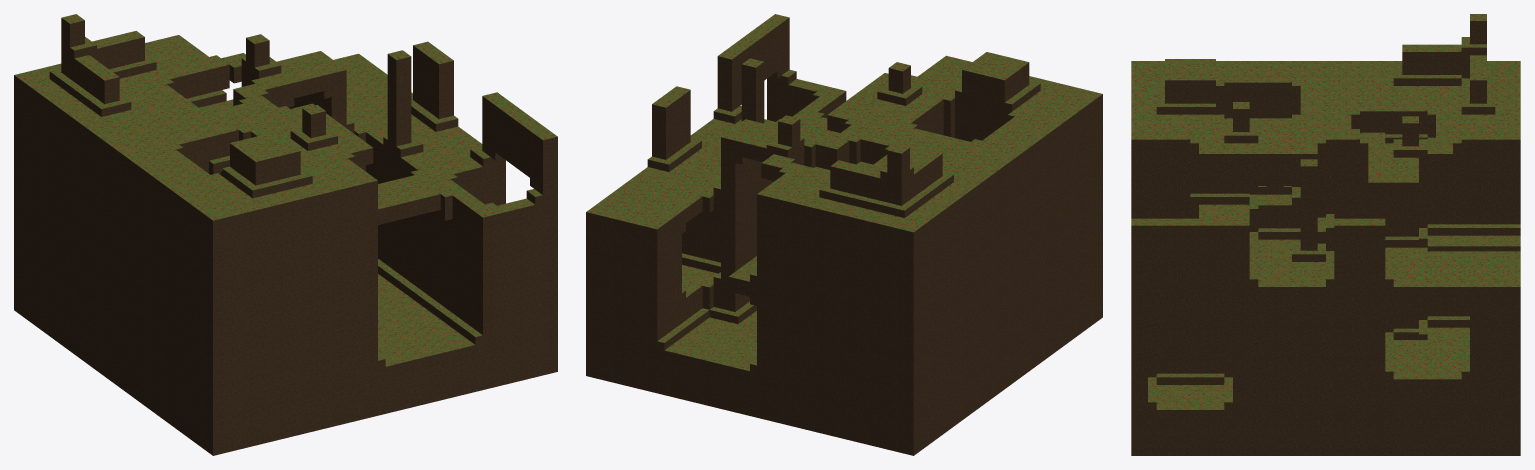
File: sousbois.glb
3 views of the same model, side by side, from view 1: azimuth 30°, elevation 25°; view 2: azimuth 150°, elevation 25°; view 3: azimuth 270°, elevation 25° (orthographic). The views are drawn at different scales.
Parts seen in each view (by area): view 1: edge_inner_b4h2_outdoor_345, edge_inner_b4h2_outdoor_338, slab_b2h2_outdoor_161, slab_b2h2_outdoor_310, slab_b2h2_outdoor_330, slab_b2h2_outdoor_377, slab_b2h2_outdoor_745, slab_b2h2_outdoor_916, slab_b2h2_outdoor_131, slab_b2h2_outdoor_141, slab_b2h2_outdoor_173, slab_b2h2_outdoor_209 (+182 smaller); view 2: edge_inner_b4h2_outdoor_337, edge_inner_b4h2_outdoor_254, edge_inner_b3h3_outdoor_407, edge_inner_b4h2_845, corner_inner_b4h3_outdoor_749, slab_b2h2_outdoor_513, slab_b2h2_outdoor_692, slab_b2h2_outdoor_842, slab_b2h2_outdoor_850, slab_b2h2_outdoor_857, slab_b2h2_outdoor_835, slab_b2h2_outdoor_837 (+157 smaller); view 3: edge_inner_b4h2_outdoor_256, edge_inner_b4h2_outdoor_419, edge_inner_b4h2_outdoor_552, edge_inner_b4h2_553, edge_inner_b4h2_571, edge_inner_b4h2_outdoor_839, ell_inner_b3h2_b_572, slab_b2h2_outdoor_1016, slab_b2h2_outdoor_1023, slab_b2h2_outdoor_576, slab_b2h2_outdoor_586, slab_b2h2_outdoor_967 (+164 smaller).
Boxes of the visible parts, x1,y1,x2,y2 form: edge_inner_b4h2_outdoor_345: [263, 161, 305, 200]; edge_inner_b4h2_outdoor_338: [107, 46, 149, 86]; slab_b2h2_outdoor_161: [220, 282, 250, 320]; slab_b2h2_outdoor_310: [280, 299, 310, 337]; slab_b2h2_outdoor_330: [280, 236, 310, 274]; slab_b2h2_outdoor_377: [310, 323, 340, 361]; slab_b2h2_outdoor_745: [460, 349, 490, 387]; slab_b2h2_outdoor_916: [520, 240, 550, 278]; slab_b2h2_outdoor_131: [220, 407, 250, 445]; slab_b2h2_outdoor_141: [220, 345, 250, 383]; slab_b2h2_outdoor_173: [220, 219, 250, 257]; slab_b2h2_outdoor_209: [250, 369, 280, 407]; edge_inner_b4h2_outdoor_337: [825, 175, 865, 213]; edge_inner_b4h2_outdoor_254: [854, 182, 894, 220]; edge_inner_b3h3_outdoor_407: [935, 105, 969, 138]; edge_inner_b4h2_845: [682, 240, 715, 277]; corner_inner_b4h3_outdoor_749: [694, 292, 727, 326]; slab_b2h2_outdoor_513: [735, 375, 764, 411]; slab_b2h2_outdoor_692: [678, 361, 707, 397]; slab_b2h2_outdoor_842: [621, 288, 650, 324]; slab_b2h2_outdoor_850: [621, 258, 650, 294]; slab_b2h2_outdoor_857: [621, 228, 650, 264]; slab_b2h2_outdoor_835: [621, 347, 650, 383]; slab_b2h2_outdoor_837: [621, 318, 650, 354]; edge_inner_b4h2_outdoor_256: [1410, 59, 1444, 93]; edge_inner_b4h2_outdoor_419: [1173, 88, 1207, 121]; edge_inner_b4h2_outdoor_552: [1478, 209, 1512, 242]; edge_inner_b4h2_553: [1444, 209, 1478, 242]; edge_inner_b4h2_571: [1207, 178, 1241, 211]; edge_inner_b4h2_outdoor_839: [1173, 358, 1207, 391]; ell_inner_b3h2_b_572: [1173, 178, 1207, 212]; slab_b2h2_outdoor_1016: [1478, 294, 1512, 325]; slab_b2h2_outdoor_1023: [1241, 294, 1275, 325]; slab_b2h2_outdoor_576: [1478, 147, 1512, 178]; slab_b2h2_outdoor_586: [1139, 147, 1173, 178]; slab_b2h2_outdoor_967: [1478, 417, 1512, 448].
Bounding box in the file's own units: 11.5 × 9.5 × 11.5.
Materials: 2 (2 with a texture image).
